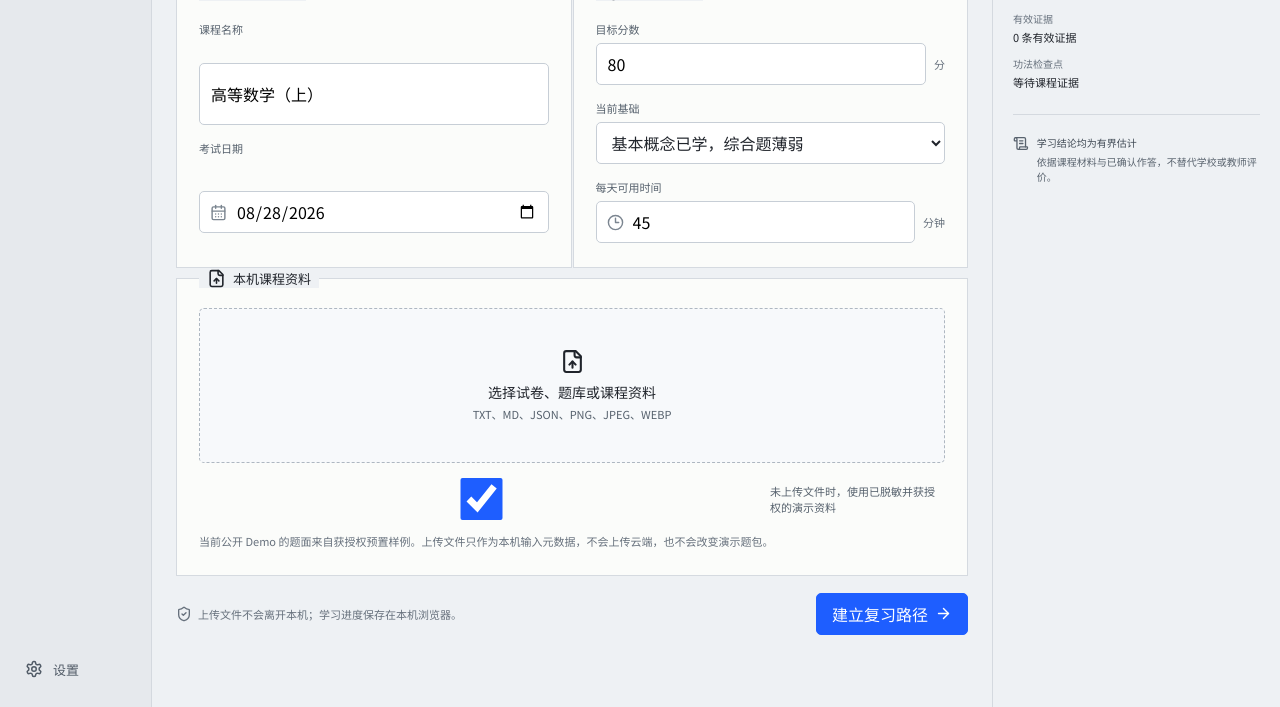
it: warns when constraints can only be kept for the current session
(page scrolled)
Click the button "建立复习路径".
click(892, 614)  # box [816,593,968,635]
(page scrolled)
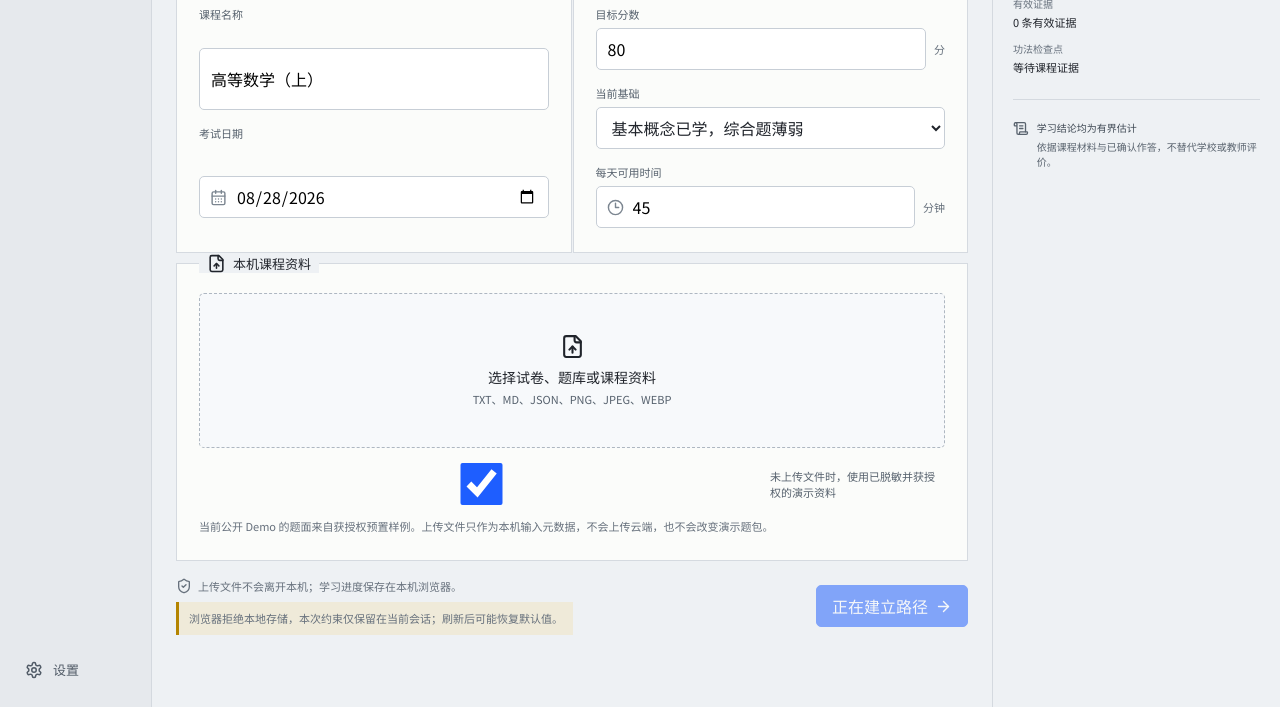
Check: the message shows "本次约束仅保留在当前会话", box [189,610,563,626]
